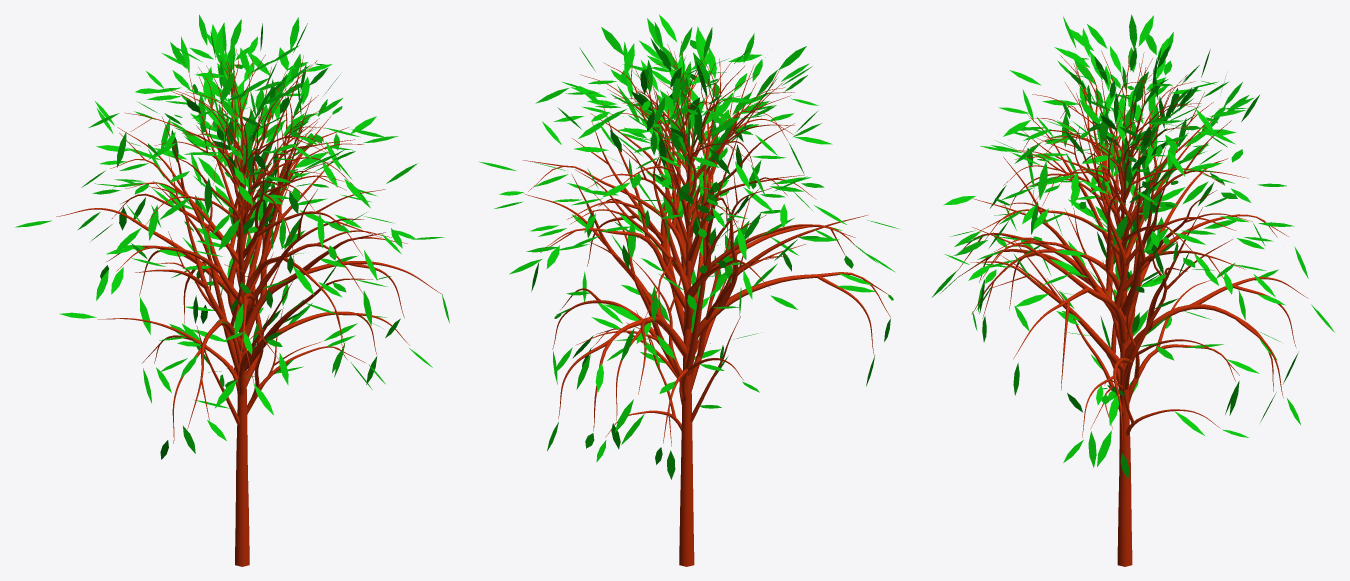
Rendered from tree.obj.
The picture shows the model from 3 angles, left to right: view 1: azimuth 30°, elevation 25°; view 2: azimuth 150°, elevation 25°; view 3: azimuth 270°, elevation 25°; orthographic projection. The views are drawn at different scales.
Parts seen in each view (by area): view 1: leaves_leaves.001, tree_tree.001; view 2: leaves_leaves.001, tree_tree.001; view 3: leaves_leaves.001, tree_tree.001.
Boxes of the visible parts, x1=… form: leaves_leaves.001: x1=15, y1=14, x2=449, y2=459; tree_tree.001: x1=56, y1=49, x2=442, y2=566; leaves_leaves.001: x1=479, y1=14, x2=898, y2=479; tree_tree.001: x1=523, y1=41, x2=890, y2=566; leaves_leaves.001: x1=932, y1=14, x2=1334, y2=478; tree_tree.001: x1=957, y1=48, x2=1308, y2=566.
Bounding box in the file's own units: 3.99 × 6.01 × 4.11.
